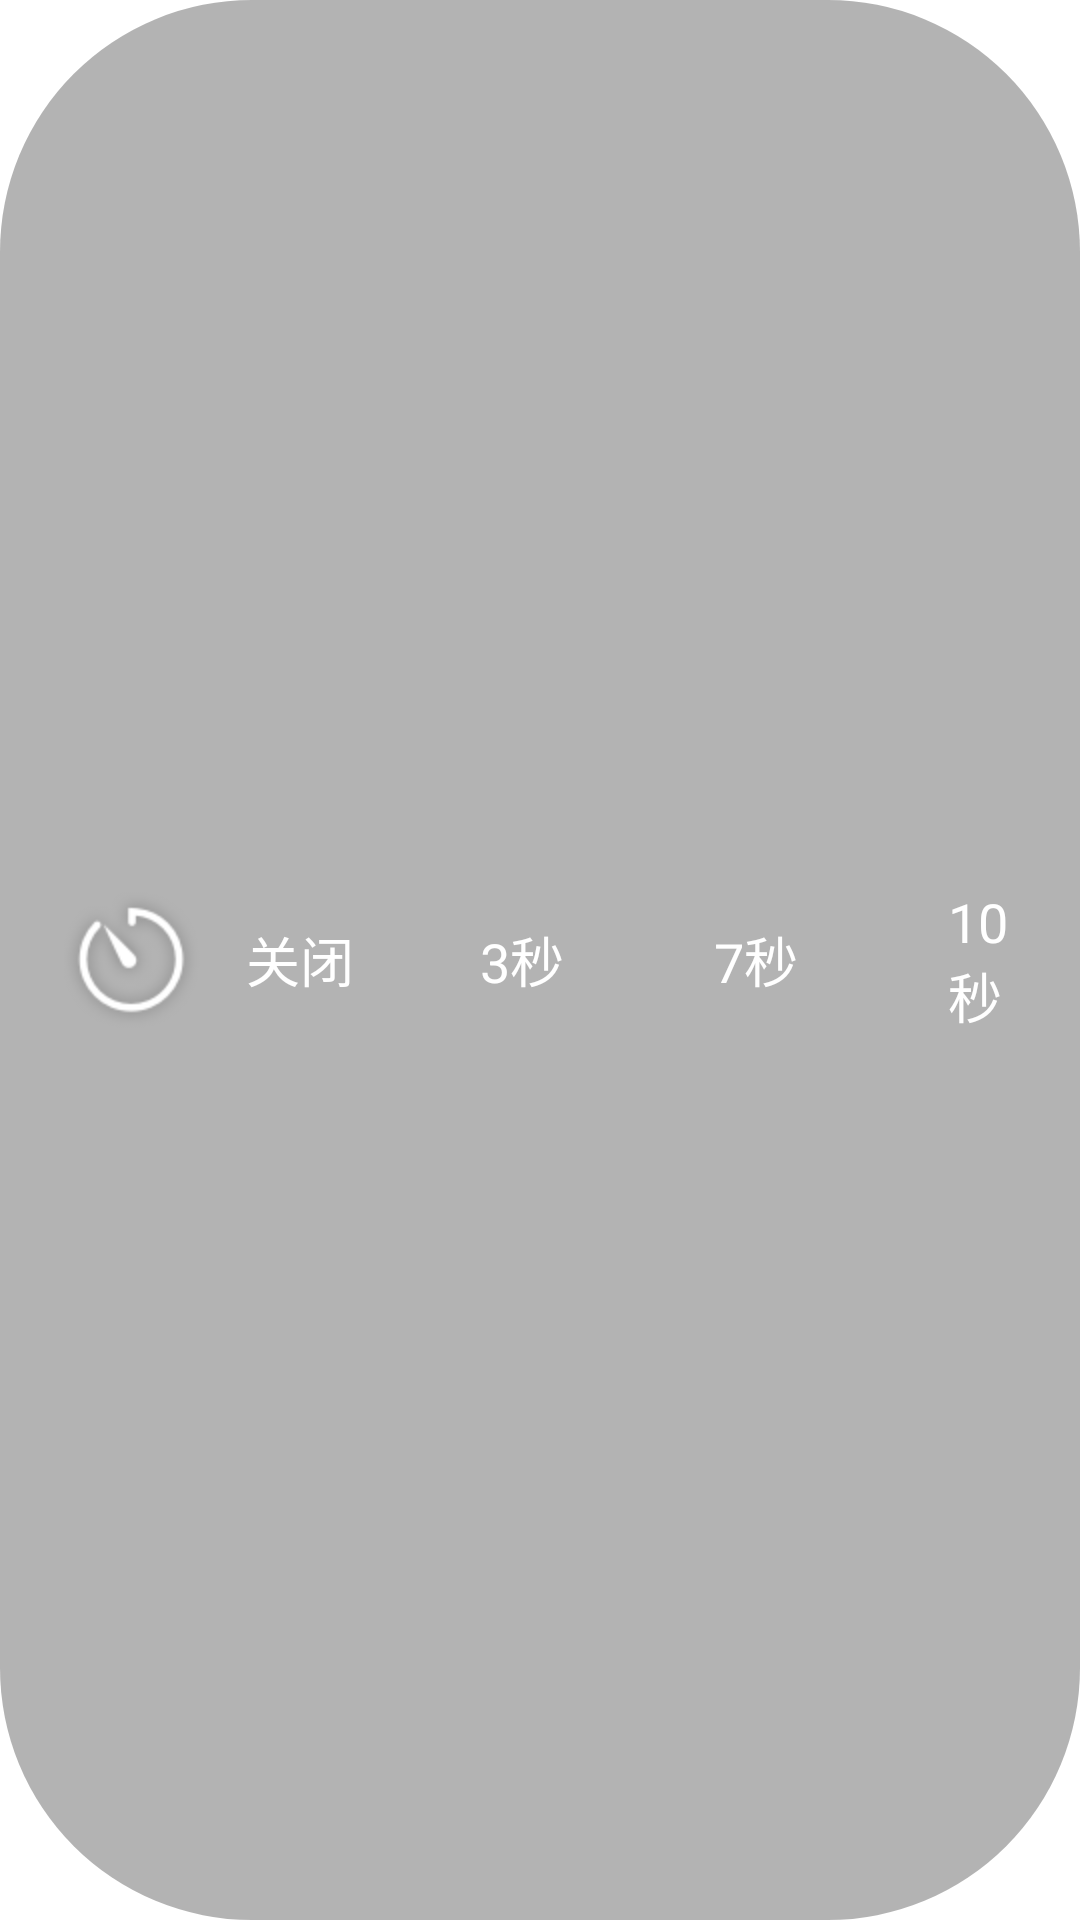

Named icons in this screenshot (1080x1920) and their bounding boxes, (x1, y1, x2, y2):
countdown: (79, 908, 183, 1012)
